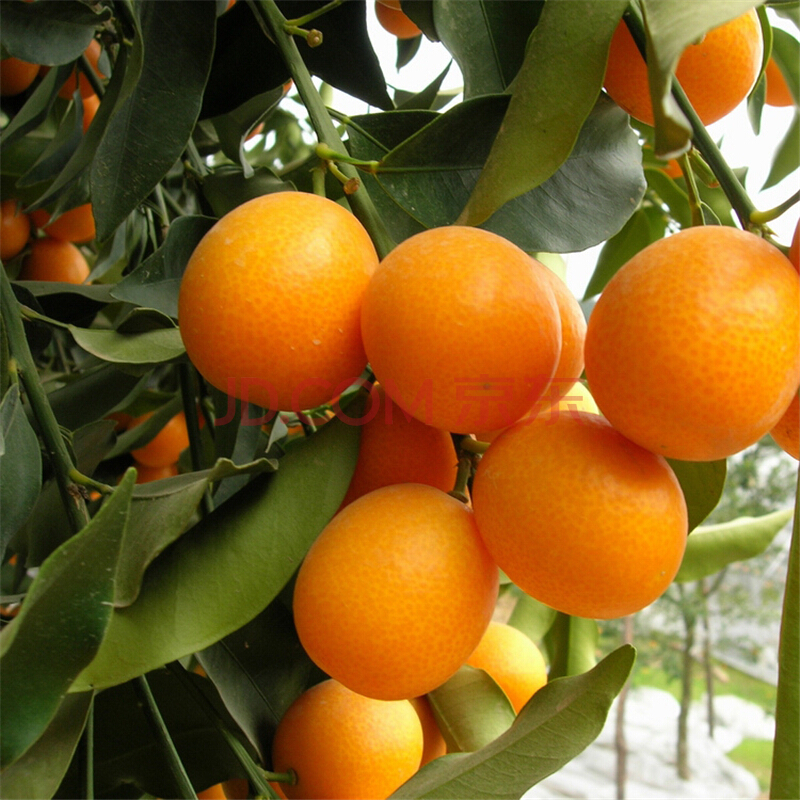orange: (582, 224, 800, 464), (470, 413, 688, 622), (294, 480, 492, 702), (178, 190, 378, 408), (371, 226, 558, 433), (592, 1, 766, 127), (300, 382, 459, 518), (269, 676, 425, 800), (413, 616, 554, 749), (21, 238, 89, 308), (129, 399, 197, 469), (1, 24, 58, 95), (373, 1, 432, 47), (1, 196, 37, 265)
